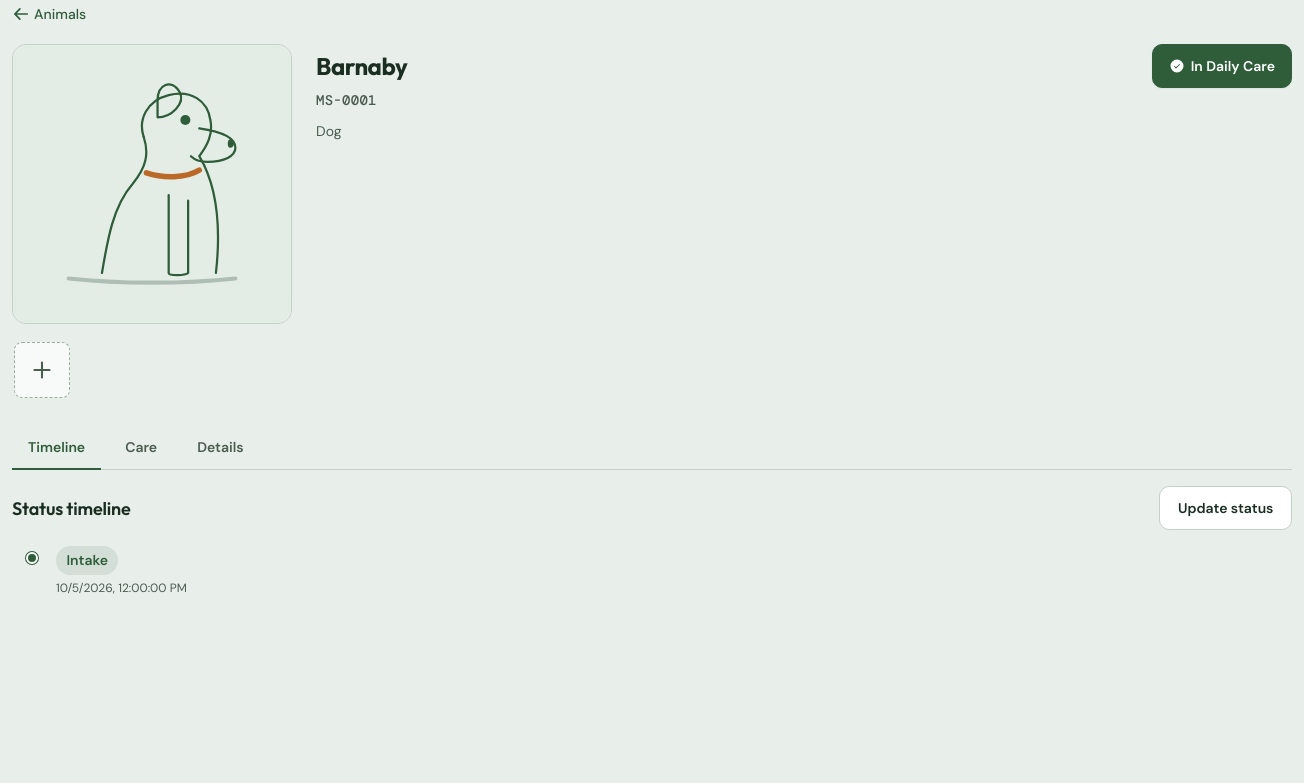
AnimalDetailScreen Dynamic Tabs › renders Details tab placeholder panel when selected
This screenshot has width=1304, height=783.
Click the tab "Details" at (220, 448), box [181, 426, 260, 470]
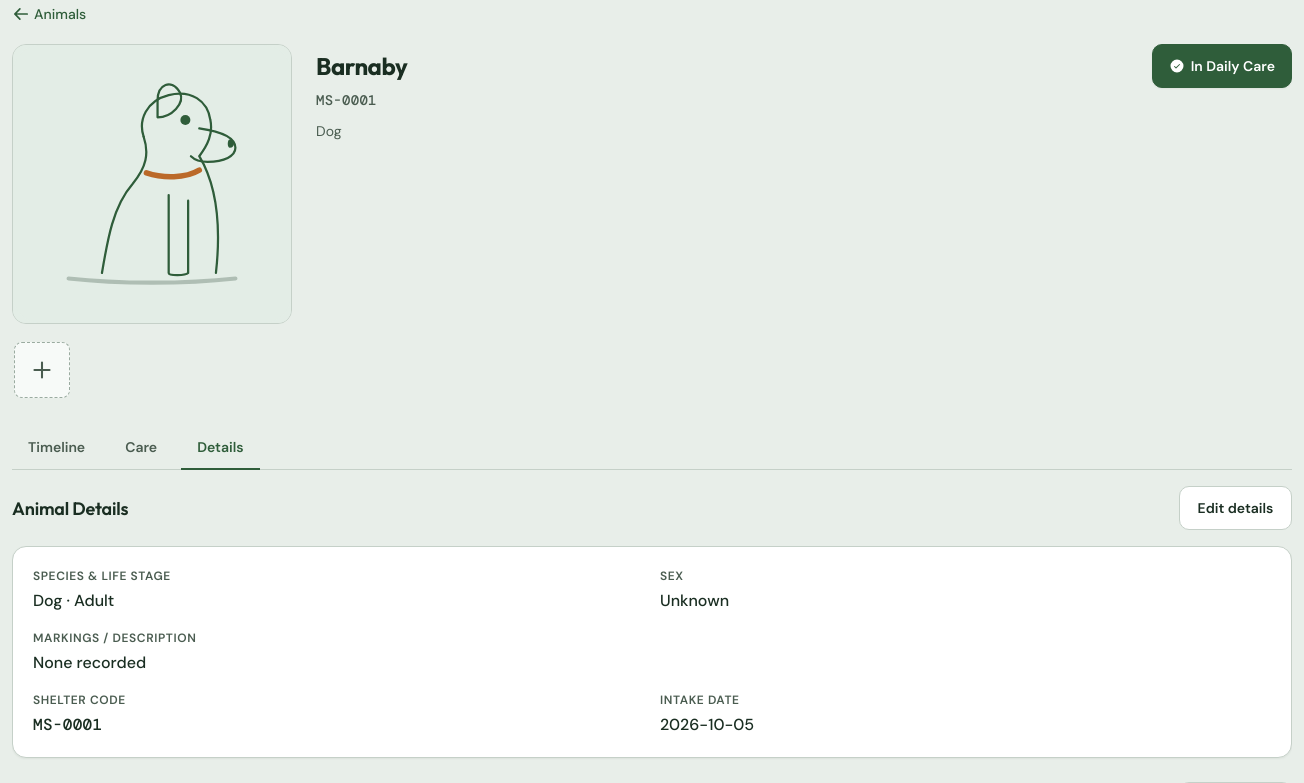
Expected: the heading "Animal Details" is shown, [12, 495, 128, 522]
